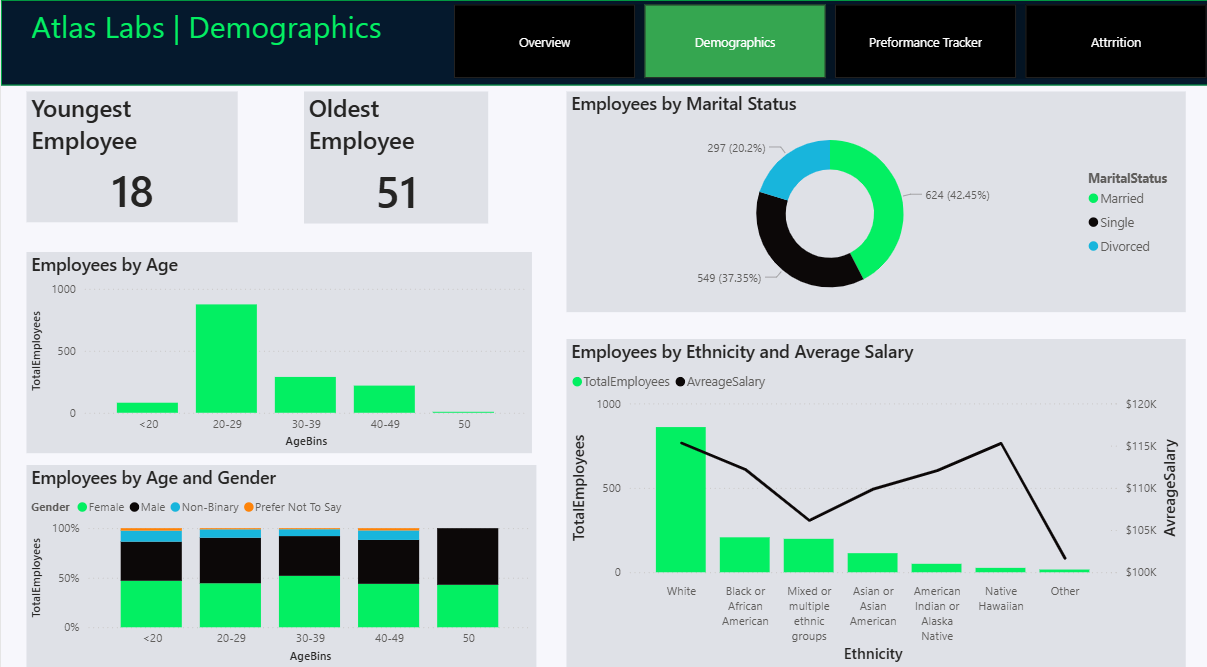

Layout of this report page (visuals, bound fields, positions):
{"tool":"powerbi","page":{"name":"Demographics","canvas":[1280,720],"ordinal":1},"visuals":[{"type":"card","title":"Youngest Employee","fields":{"Values":["Min(DimEmployee.Age)"]},"box":[27,97,224.3,138.4],"z":0},{"type":"card","title":"Oldest Employee","fields":{"Values":["Max(DimEmployee.Age)"]},"box":[321.3,97,195.6,140],"z":1000},{"type":"columnChart","title":"Employees by Age","fields":{"Category":["DimEmployee.AgeBins"],"Y":["__Measures.TotalEmployees"]},"box":[27,267.2,536,213.1],"z":2000},{"type":"hundredPercentStackedColumnChart","title":"Employees by Age and Gender ","fields":{"Category":["DimEmployee.AgeBins"],"Y":["__Measures.TotalEmployees"],"Series":["DimEmployee.Gender"]},"box":[27,493.1,540.8,214.7],"z":3000},{"type":"donutChart","title":"Employees by Marital Status","fields":{"Category":["DimEmployee.MaritalStatus"],"Y":["__Measures.TotalEmployees"]},"box":[599.7,97,656.9,233.8],"z":4000},{"type":"lineStackedColumnComboChart","title":"Employees  by Ethnicity and Average Salary ","fields":{"Category":["DimEmployee.Ethnicity"],"Y":["__Measures.TotalEmployees"],"Y2":["__Measures.AvrageSalary"]},"box":[599.7,359.5,656.9,348.3],"z":5000},{"type":"shape","box":[0,0,1280.4,90.7],"z":6000},{"type":"textbox","box":[27,0,392.9,90.7],"z":7000},{"type":"pageNavigator","box":[480,4.1,800,79],"z":7001}]}

Visuals, with their boxes in screenshot pixels (x1, y1, x2, y2), scaled from the page's 1280x720 canvas onto the 1207x667 screenshot:
"Youngest Employee" card: pyautogui.locateOnScreen(25, 90, 237, 218)
"Oldest Employee" card: pyautogui.locateOnScreen(303, 90, 487, 220)
"Employees by Age" columnChart: pyautogui.locateOnScreen(25, 248, 531, 445)
"Employees by Age and Gender " hundredPercentStackedColumnChart: pyautogui.locateOnScreen(25, 457, 535, 656)
"Employees by Marital Status" donutChart: pyautogui.locateOnScreen(565, 90, 1185, 306)
"Employees  by Ethnicity and Average Salary " lineStackedColumnComboChart: pyautogui.locateOnScreen(565, 333, 1185, 656)
shape: pyautogui.locateOnScreen(0, 0, 1206, 84)
textbox: pyautogui.locateOnScreen(25, 0, 396, 84)
pageNavigator: pyautogui.locateOnScreen(453, 4, 1206, 77)
